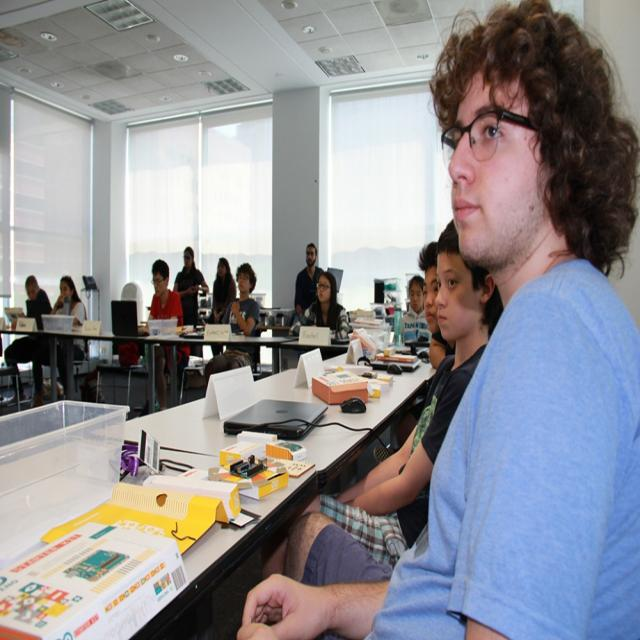body: (223, 0, 640, 639), (258, 211, 498, 585), (202, 261, 261, 391), (138, 258, 185, 418), (3, 273, 53, 405), (49, 275, 89, 401), (287, 268, 350, 342), (172, 245, 211, 328), (207, 256, 237, 359), (292, 242, 326, 328), (417, 238, 444, 336), (401, 274, 432, 344)
